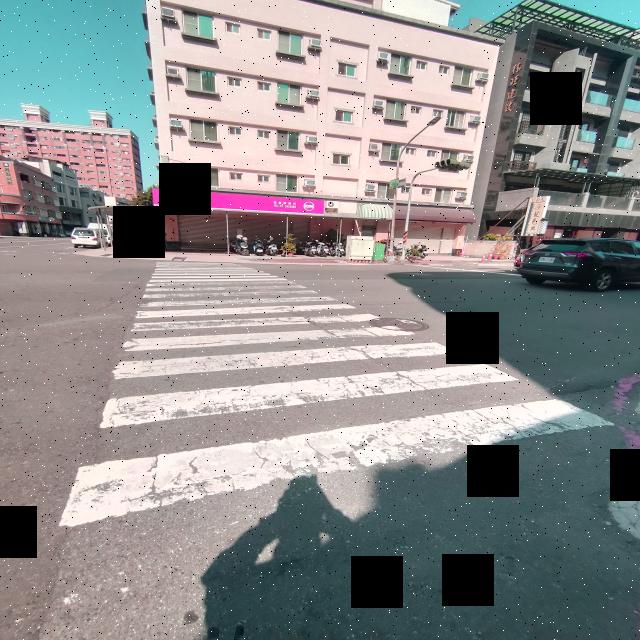zebra crossing: (56, 258, 605, 536)
